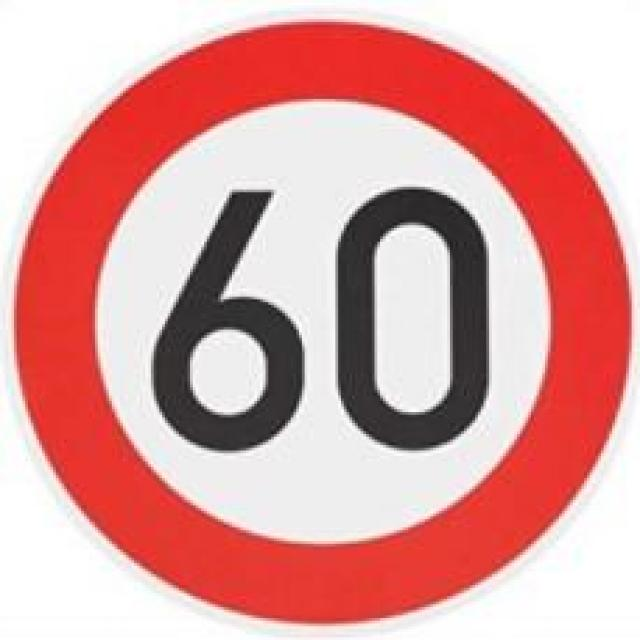speed_limit_60: (9, 14, 624, 624)
